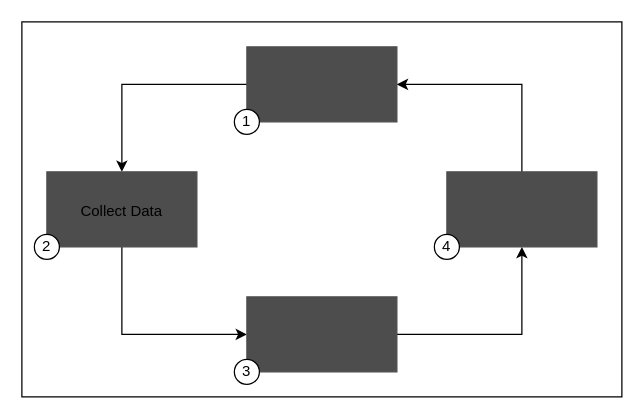
Some shapes in this 644 by 419 pixel diagram are drawn without their labels. The box of each missing label's shape, as (x1, y1, x2, y2) in pixels:
Evaluate the Model: (446, 171, 597, 247)
Find a Model with Maximal Likelihood: (246, 296, 397, 372)
Hypothesize on Useful Information: (246, 46, 397, 122)
